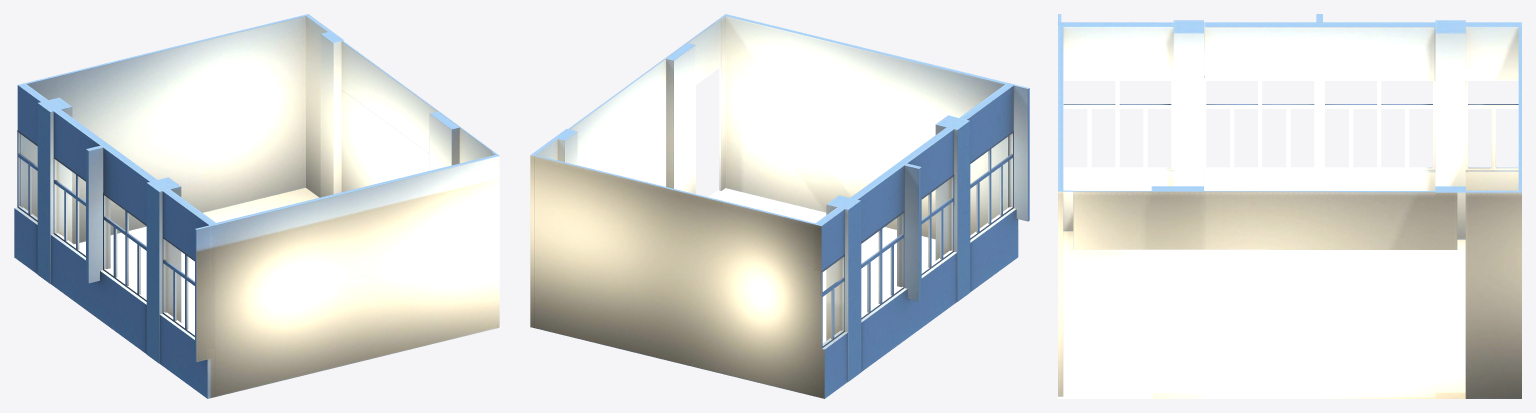
3 renders of one model, left to right at view 1: azimuth 30°, elevation 25°; view 2: azimuth 150°, elevation 25°; view 3: azimuth 270°, elevation 25°, orthographic. The views are drawn at different scales.
Visible parts, largest first — view 1: hc_1floor_room014_1_1; view 2: hc_1floor_room014_1_1; view 3: hc_1floor_room014_1_1.
Boxes of the visible parts, bbox=[...] form: hc_1floor_room014_1_1: bbox=[14, 14, 500, 398]; hc_1floor_room014_1_1: bbox=[530, 14, 1029, 398]; hc_1floor_room014_1_1: bbox=[1058, 14, 1521, 398].
Size of the model in its own units: 0.9703 by 0.5219 by 1.06.
Materials: 1 (1 with a texture image).
